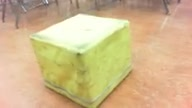cube: (29, 12, 133, 107)
